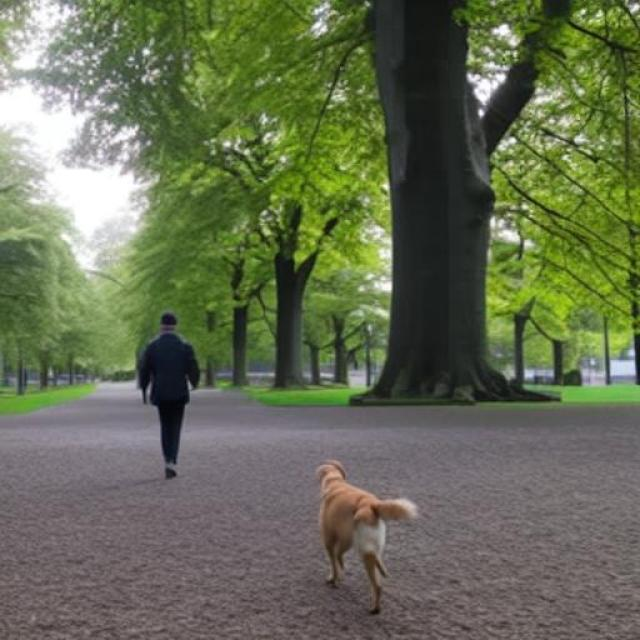Unleashed_Dog: (154, 389, 419, 614)
